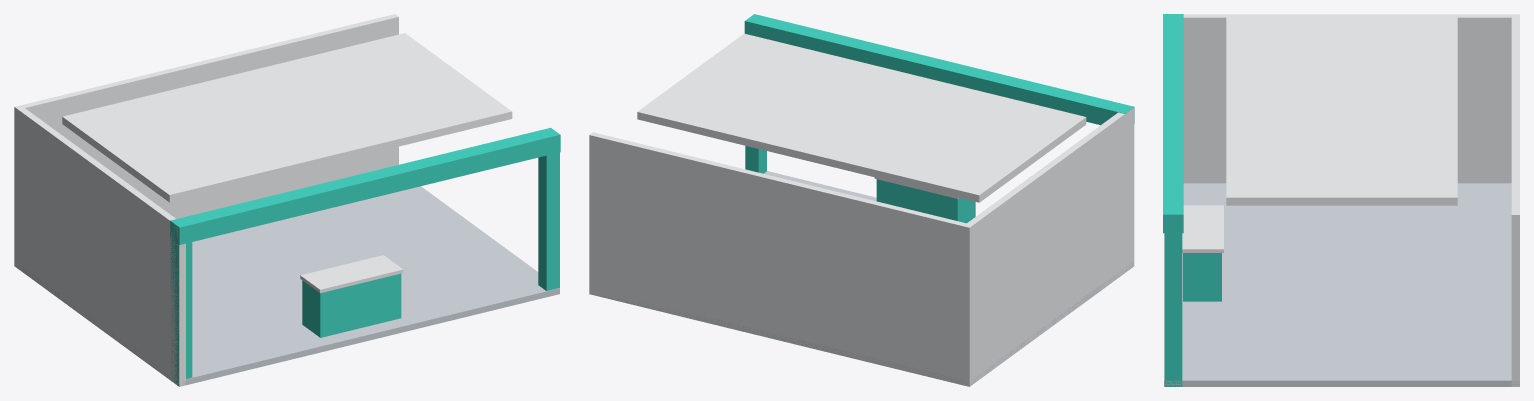
3 renders of one model, left to right at view 1: azimuth 30°, elevation 25°; view 2: azimuth 150°, elevation 25°; view 3: azimuth 270°, elevation 25°, orthographic. The views are drawn at different scales.
Visible parts, largest first — view 1: Exhibition Booth Concept; view 2: Exhibition Booth Concept; view 3: Exhibition Booth Concept.
Part boxes in pixels (box(x1,y1,x2,y2)): Exhibition Booth Concept: box(14, 14, 560, 386); Exhibition Booth Concept: box(589, 14, 1134, 386); Exhibition Booth Concept: box(1163, 14, 1519, 386).
Bounding box in the file's own units: 8 × 3.34 × 6.02.
